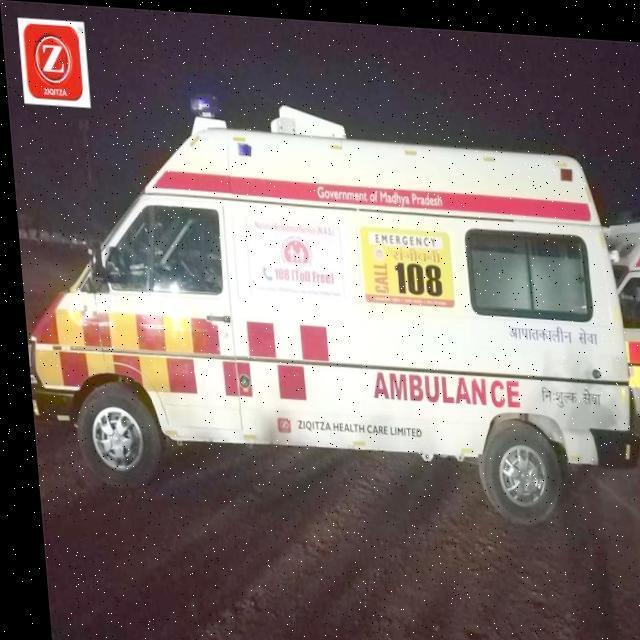Ambulance: (7, 81, 640, 529), (25, 372, 640, 640), (598, 205, 640, 412)
